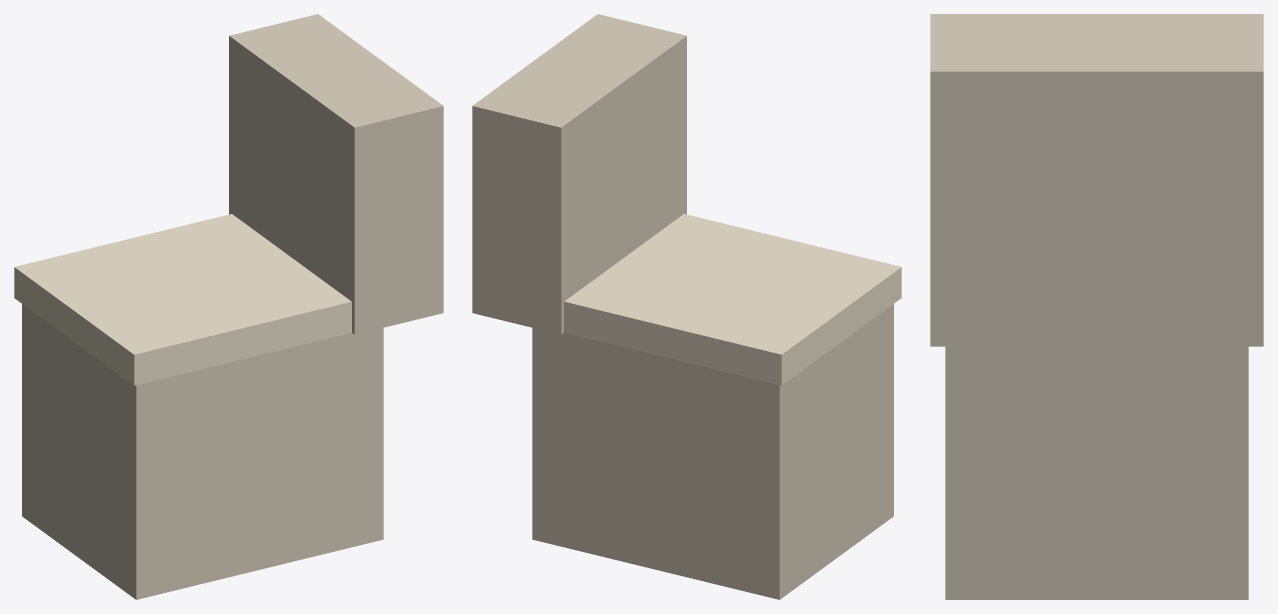
The model's file is toilet.glb.
3 renders of one model, left to right at view 1: azimuth 30°, elevation 25°; view 2: azimuth 150°, elevation 25°; view 3: azimuth 270°, elevation 25°, orthographic. The views are drawn at different scales.
Parts seen in each view (by area): view 1: Box1, Box3, Box2; view 2: Box1, Box3, Box2; view 3: Box3, Box1.
Part boxes in pixels (bbox=[...]): Box1: bbox=[22, 304, 383, 599]; Box3: bbox=[229, 14, 443, 334]; Box2: bbox=[14, 214, 351, 385]; Box1: bbox=[532, 304, 893, 599]; Box3: bbox=[472, 14, 686, 334]; Box2: bbox=[564, 214, 901, 385]; Box3: bbox=[930, 14, 1263, 346]; Box1: bbox=[945, 346, 1248, 599].
Size of the model in its own units: 0.62 by 0.82 by 0.44.
